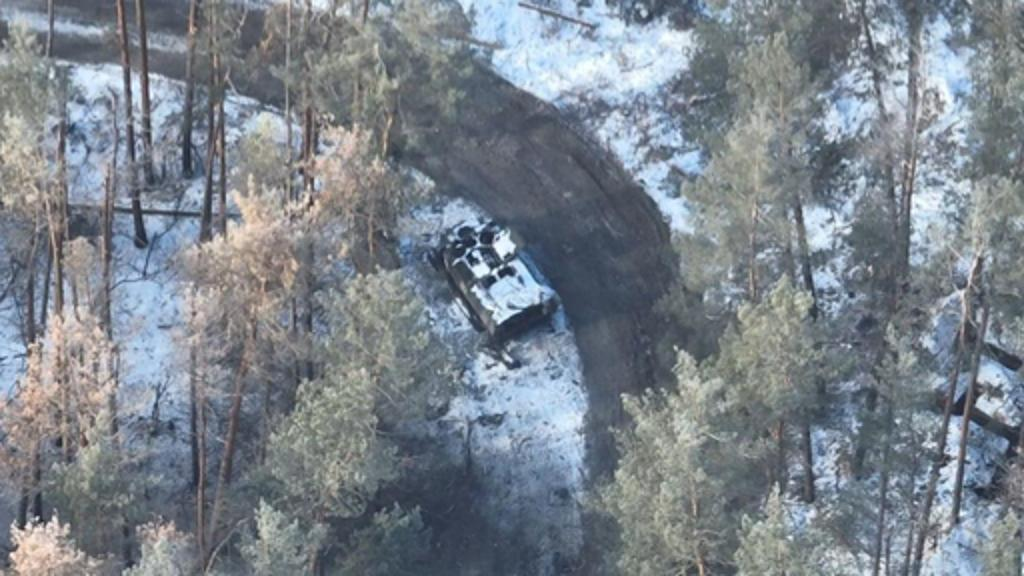APC-IFV: (400, 198, 558, 350)
